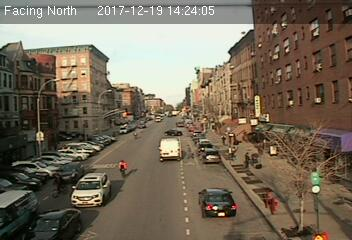bicycle: (50, 172, 68, 199), (117, 158, 132, 179)
car: (19, 209, 81, 240), (68, 172, 113, 207), (198, 187, 237, 219), (201, 149, 221, 164)
truck: (159, 136, 182, 160)
